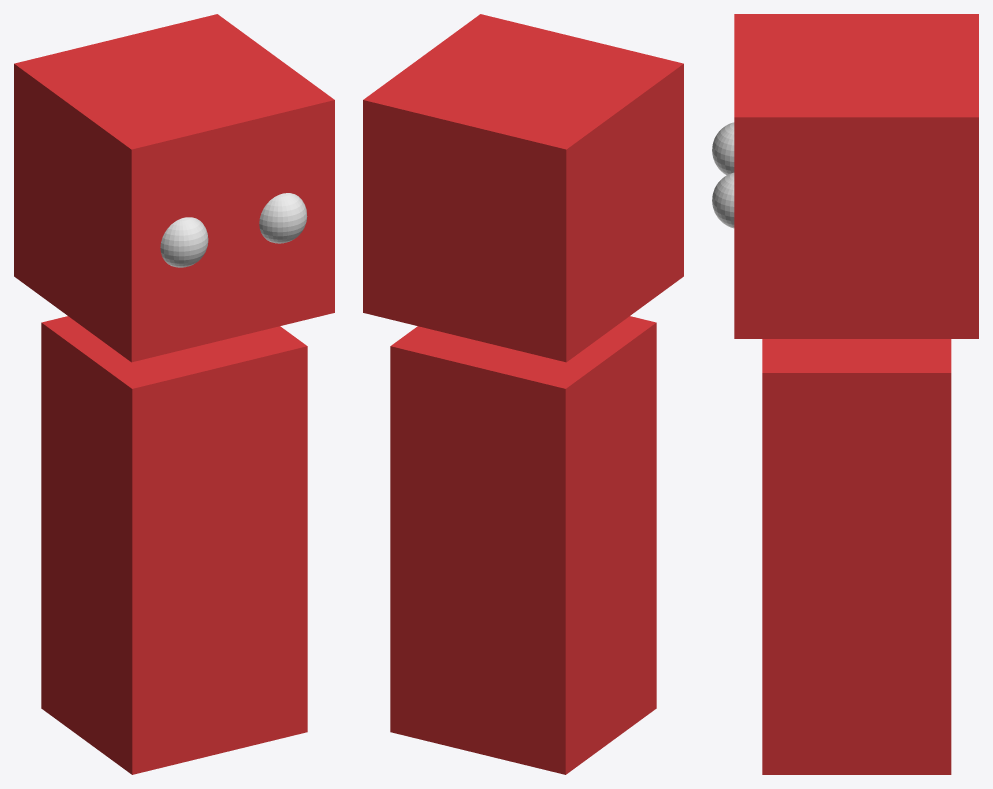
The model's file is enemy-mock.fbx.
The picture shows the model from 3 angles, left to right: view 1: azimuth 30°, elevation 25°; view 2: azimuth 150°, elevation 25°; view 3: azimuth 270°, elevation 25°; orthographic projection. The views are drawn at different scales.
Parts seen in each view (by area): view 1: Cube, Cube.001, 球; view 2: Cube, Cube.001; view 3: Cube, Cube.001, 球.
Boxes of the visible parts, x1=… form: Cube: x1=41, y1=316, x2=307, y2=774; Cube.001: x1=14, y1=14, x2=334, y2=362; 球: x1=160, y1=193, x2=307, y2=267; Cube: x1=390, y1=316, x2=656, y2=774; Cube.001: x1=363, y1=14, x2=683, y2=362; Cube: x1=762, y1=339, x2=951, y2=774; Cube.001: x1=734, y1=14, x2=978, y2=338; 球: x1=712, y1=122, x2=734, y2=228.
Bounding box in the file's own units: 2 × 6 × 2.18.
